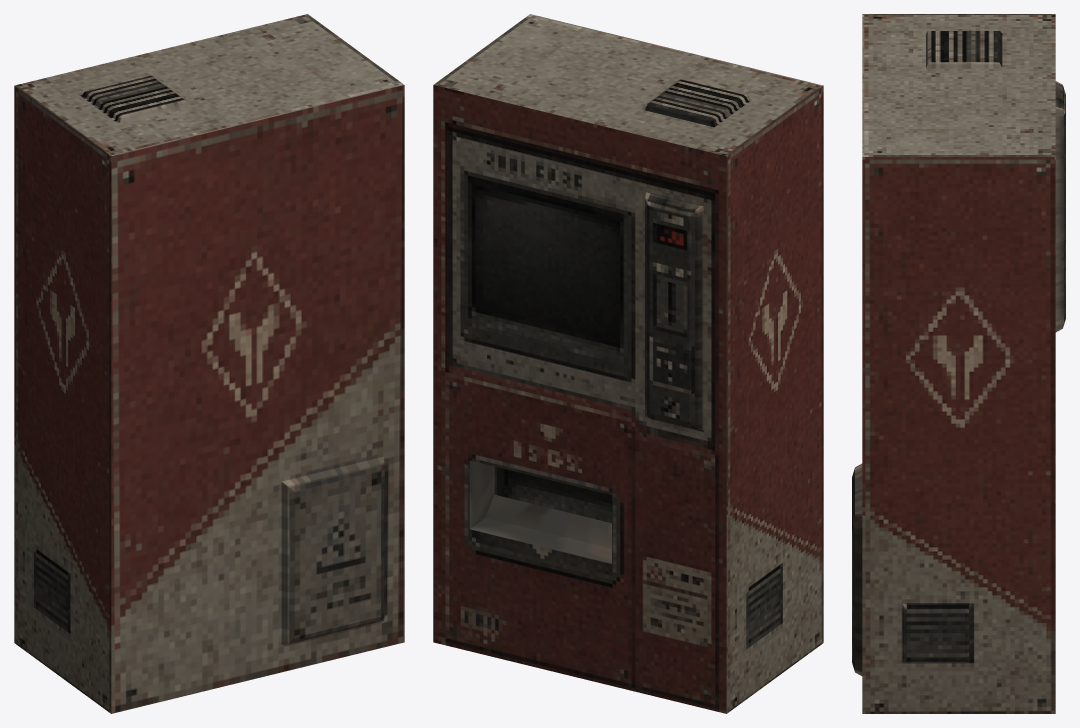
The model's file is vendingMachineBullets.glb.
3 views of the same model, side by side, from view 1: azimuth 30°, elevation 25°; view 2: azimuth 150°, elevation 25°; view 3: azimuth 270°, elevation 25° (orthographic).
Parts seen in each view (by area): view 1: Cube_0; view 2: Cube_0; view 3: Cube_0.
Boxes of the visible parts, x1,y1,x2,y2 form: Cube_0: (14,14,404,713); Cube_0: (433,14,823,713); Cube_0: (852,14,1065,713).
Bounding box in the file's own units: 1.57 × 2.85 × 0.9806.
Materials: 1 (1 with a texture image).
